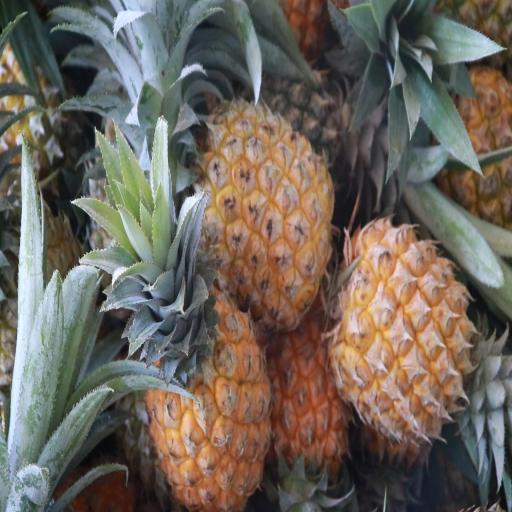Pineapple - v8 v1: (193, 91, 336, 329), (147, 240, 271, 508), (338, 220, 480, 449), (268, 318, 352, 505)
